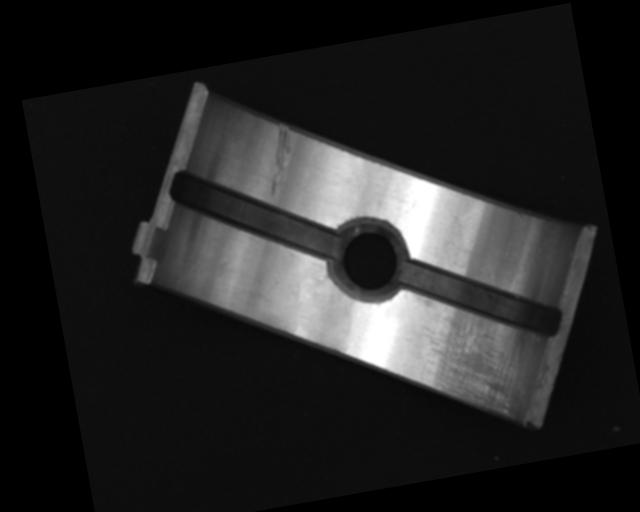gap: (168, 146, 339, 285), (396, 236, 567, 360)
hole: (327, 215, 412, 309)
nick: (256, 120, 303, 197)
scratch: (412, 300, 535, 427)
